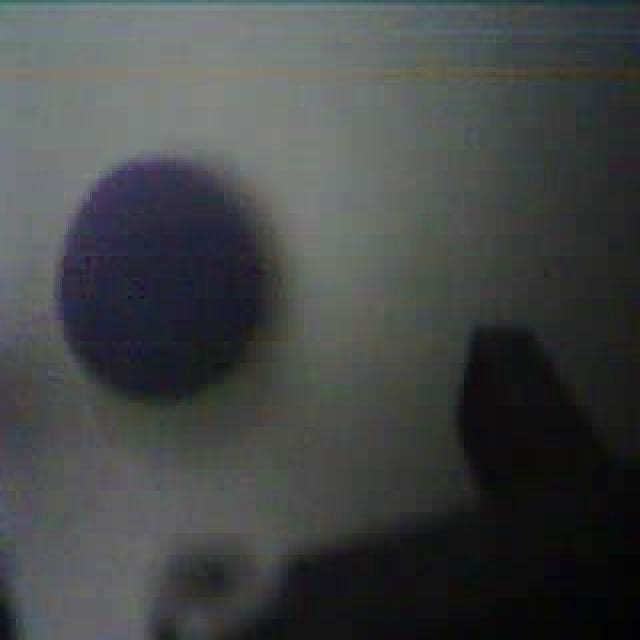blue_ball: (56, 150, 272, 406)
